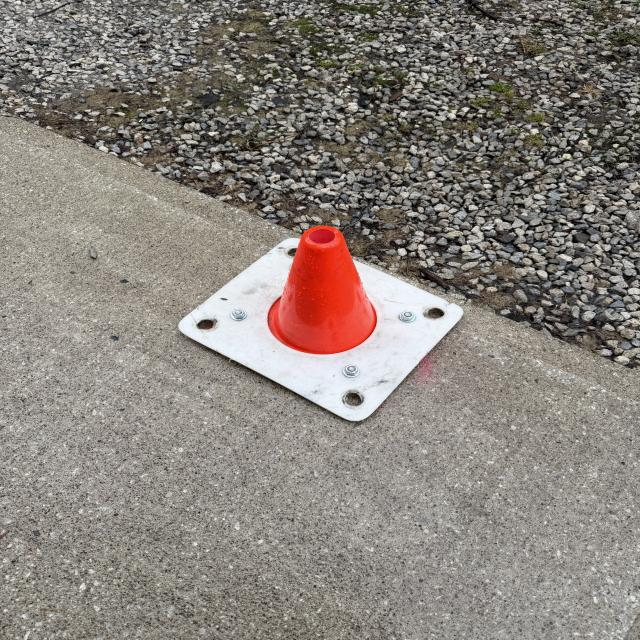Traffic Cone: (178, 226, 468, 423)
